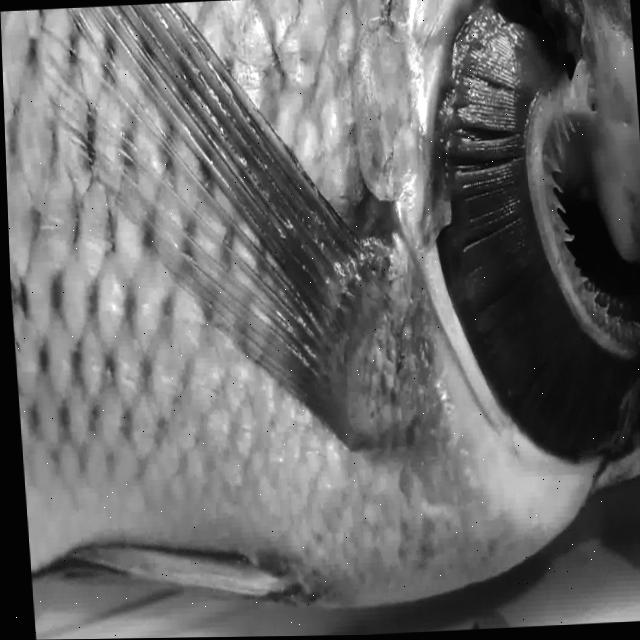Non-Fresh: (408, 0, 640, 497)
